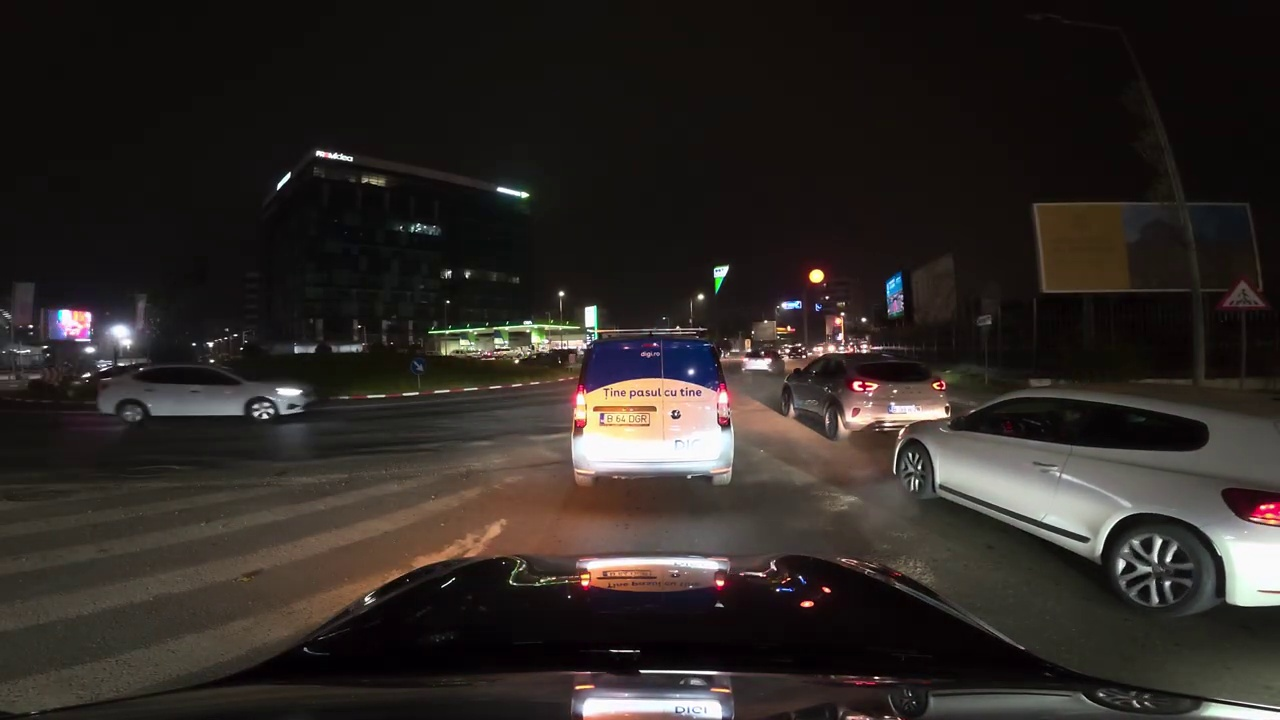acesa: (805, 266, 827, 286)
